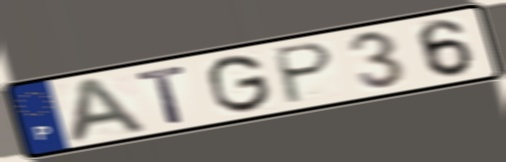3: (346, 28, 410, 92)
6: (414, 17, 477, 80)
A: (65, 74, 152, 147)
G: (206, 52, 275, 115)
P: (273, 40, 337, 108)
T: (134, 62, 191, 126)
